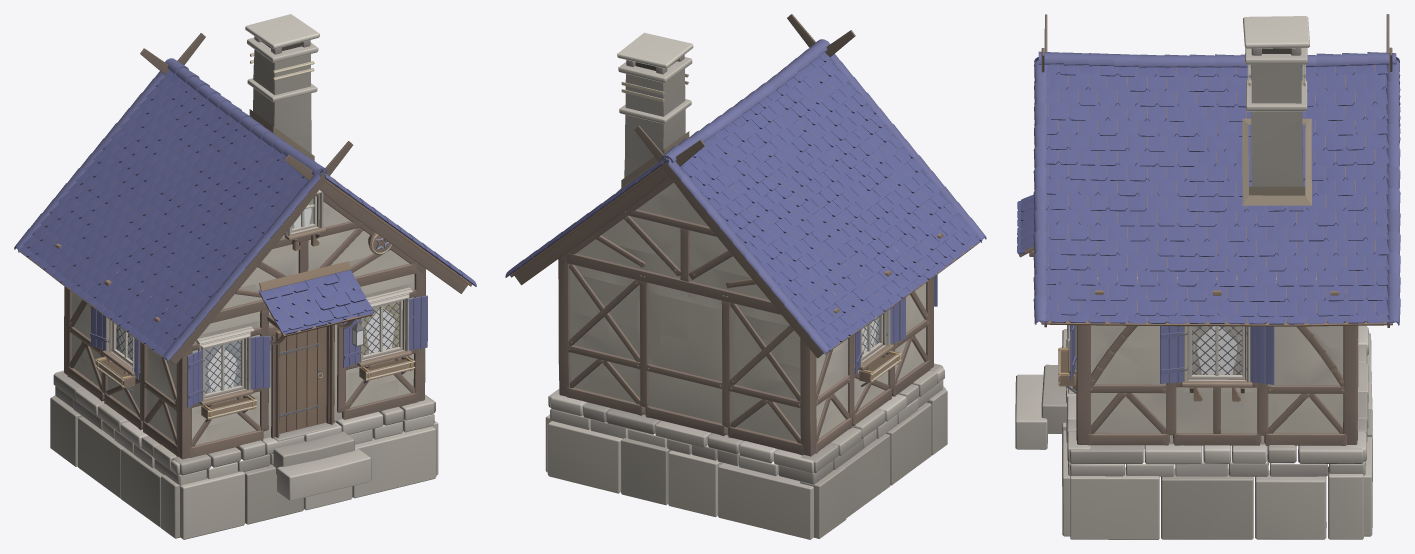
File: bd_house_annex.glb
The picture shows the model from 3 angles, left to right: view 1: azimuth 30°, elevation 25°; view 2: azimuth 150°, elevation 25°; view 3: azimuth 270°, elevation 25°; orthographic projection. The views are drawn at different scales.
Parts seen in each view (by area): view 1: BD_house_annex__body; view 2: BD_house_annex__body; view 3: BD_house_annex__body.
Part boxes in pixels (x1,y1,x2,y2): BD_house_annex__body: (14, 14, 476, 539); BD_house_annex__body: (505, 14, 986, 539); BD_house_annex__body: (1015, 14, 1400, 539).
Bounding box in the file's own units: 6.51 × 7.99 × 5.93.
